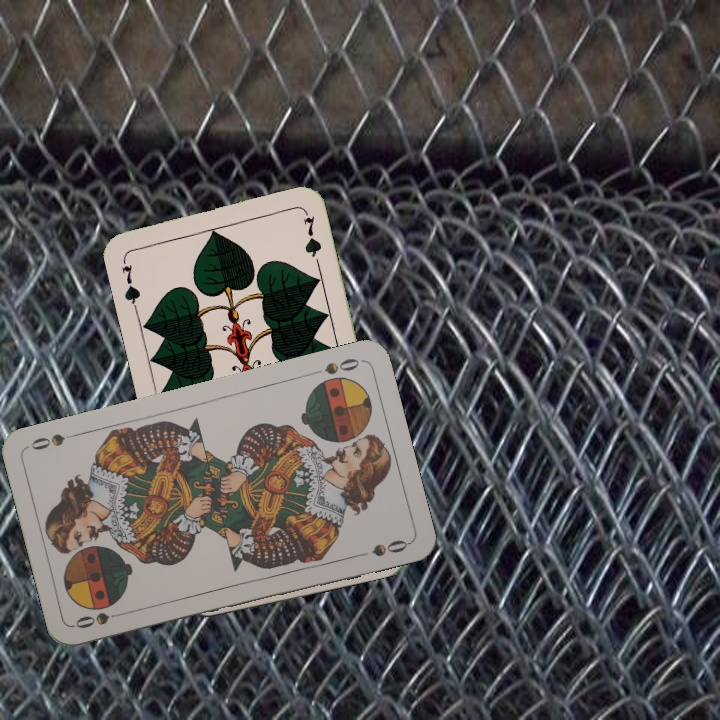G7: (117, 253, 143, 312)
SO: (306, 354, 363, 379), (71, 607, 129, 631)
